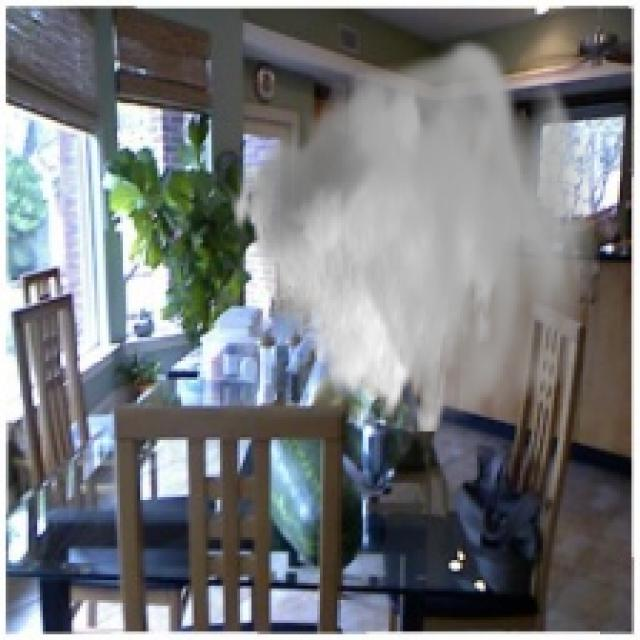smoke: (229, 34, 600, 432)
